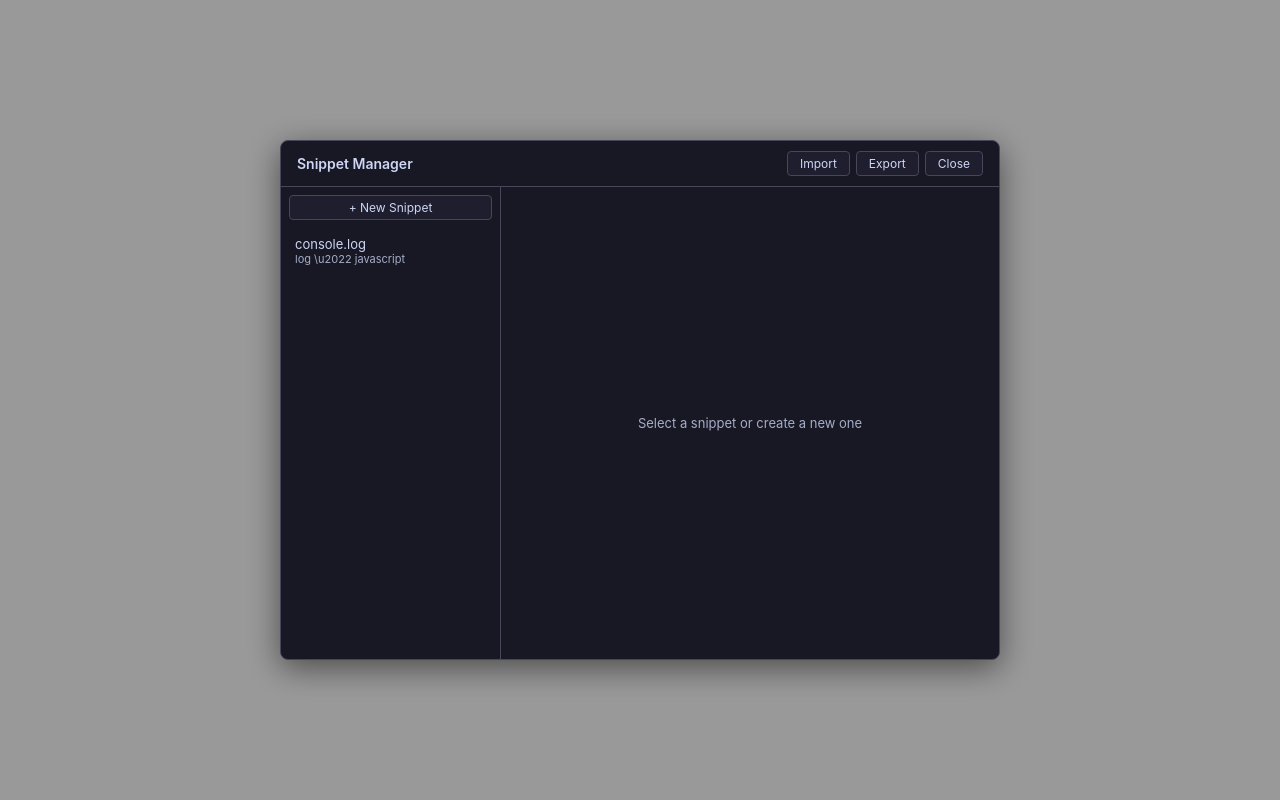
Test: SnippetManagerViewPresenter › selecting snippet shows editor with Name, Prefix, Language, Description, Body fields
Click the text "console.log". click: [330, 244]
box: 295,236 -> 366,252
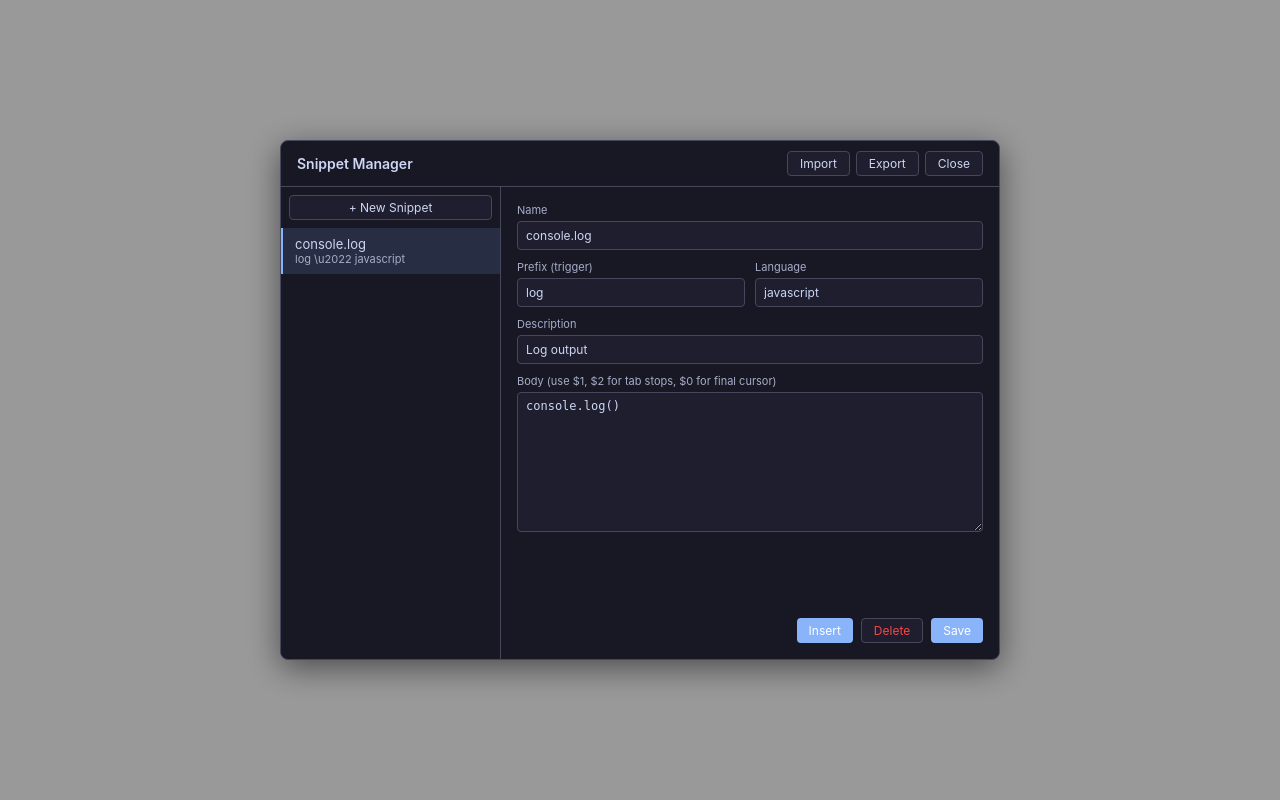
Now the field showing "console.log" below "Name" is shown, box 517,221 -> 983,250
Now the field showing "log" below "Prefix (trigger)" is shown, box 517,278 -> 745,307
Now the field showing "javascript" below "Language" is shown, box 755,278 -> 983,307
